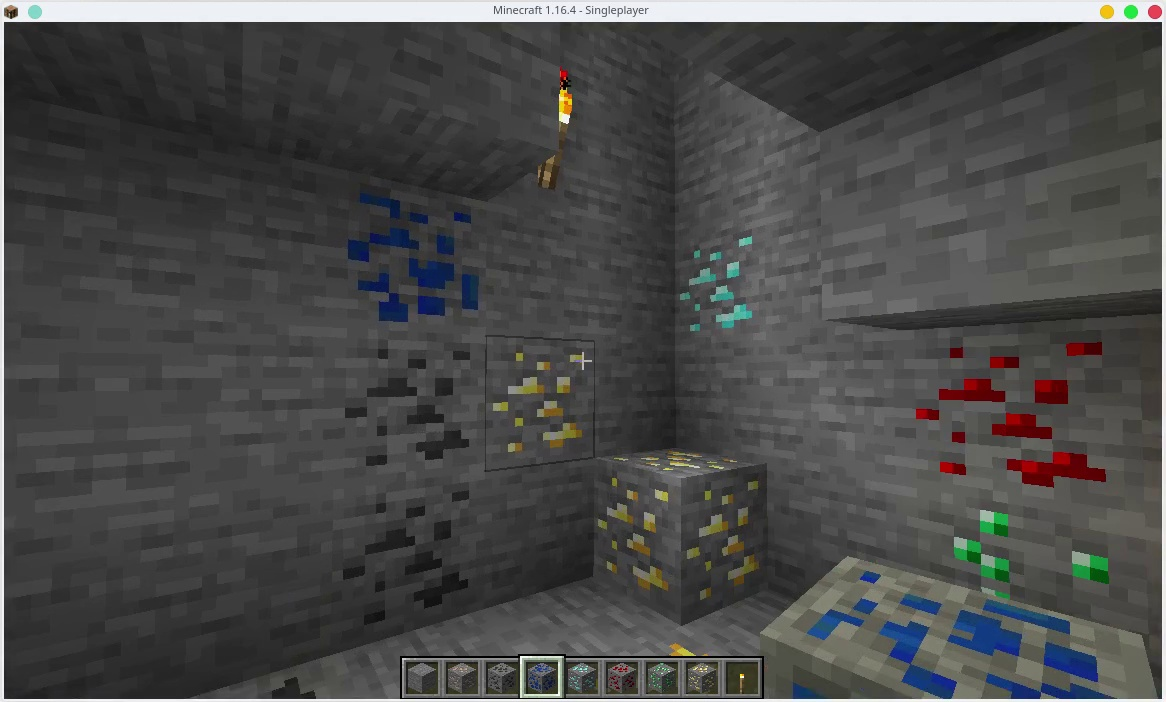gold: (600, 454, 773, 602), (484, 331, 593, 455), (648, 639, 713, 657), (684, 662, 715, 696)
